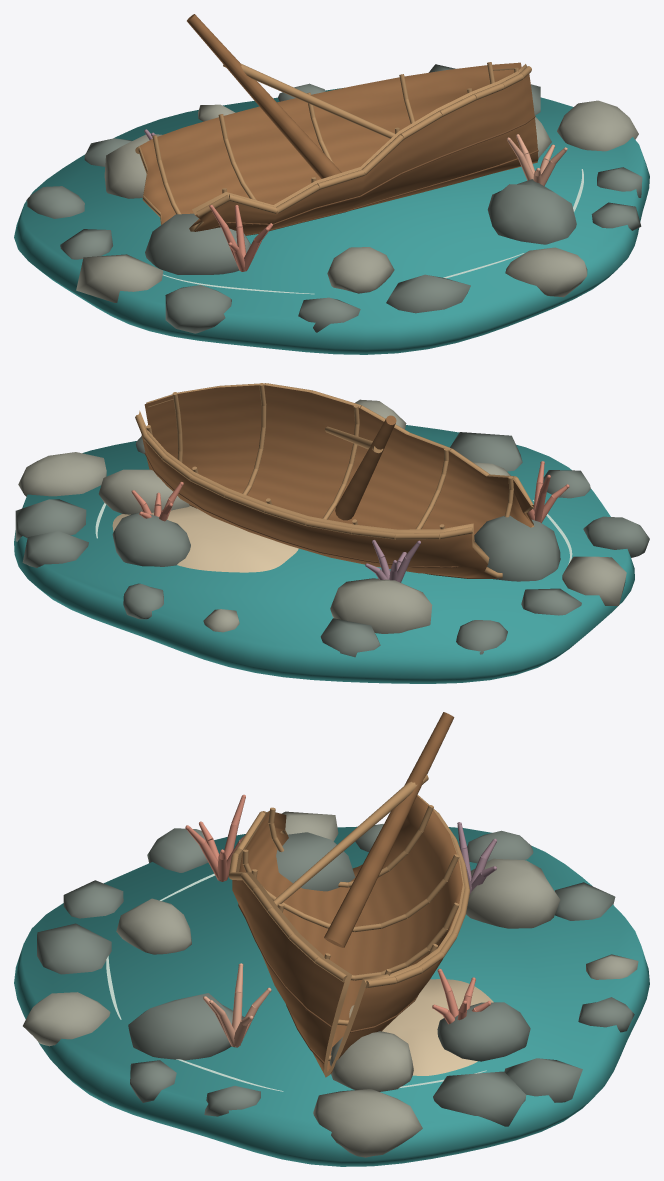
The model's file is shipwreck-reef-v2.glb.
3 views of the same model, one above another, from view 1: azimuth 30°, elevation 25°; view 2: azimuth 150°, elevation 25°; view 3: azimuth 270°, elevation 25° (orthographic). The views are drawn at different scales.
Visible parts, largest first — view 1: Shipwreck | collectible export; view 2: Shipwreck | collectible export; view 3: Shipwreck | collectible export.
Part boxes in pixels (x1=…): Shipwreck | collectible export: x1=14, y1=14, x2=649, y2=354; Shipwreck | collectible export: x1=14, y1=383, x2=649, y2=683; Shipwreck | collectible export: x1=14, y1=712, x2=649, y2=1166.
Size of the model in its own units: 1.72 by 0.6118 by 1.44.
Materials: 11 (1 with a texture image).
